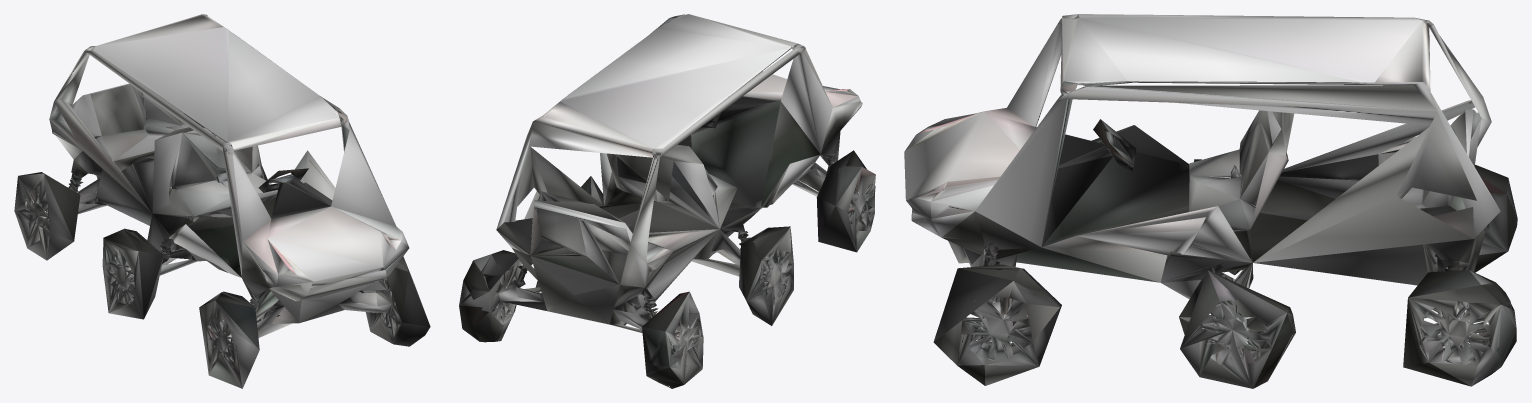
File: rover.glb
3 views of the same model, side by side, from view 1: azimuth 30°, elevation 25°; view 2: azimuth 150°, elevation 25°; view 3: azimuth 270°, elevation 25° (orthographic). The views are drawn at different scales.
Visible parts, largest first — view 1: LO.001; view 2: LO.001; view 3: LO.001.
Part boxes in pixels (x1=…): LO.001: x1=14, y1=14, x2=430, y2=388; LO.001: x1=459, y1=14, x2=875, y2=388; LO.001: x1=904, y1=14, x2=1517, y2=388.
Bounding box in the file's own units: 2.56 × 2.54 × 5.
1 material, 1 textured.
